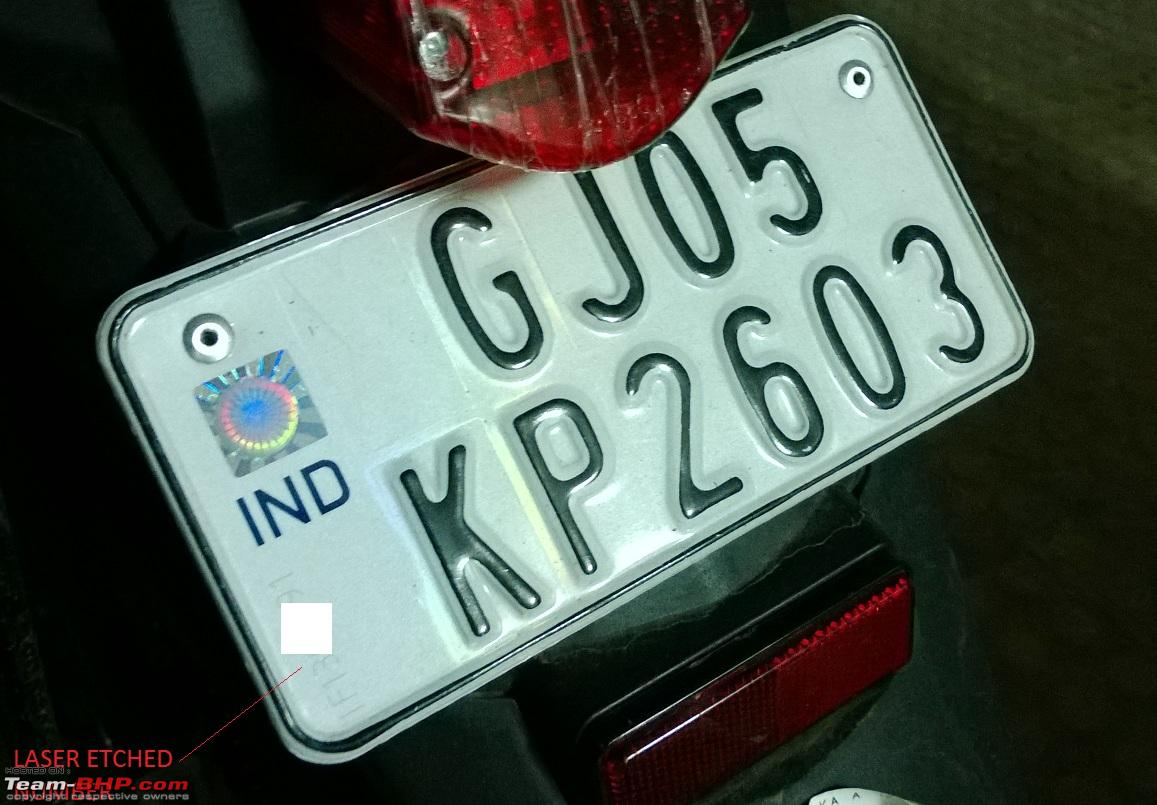number_plate: (91, 12, 1054, 768)
